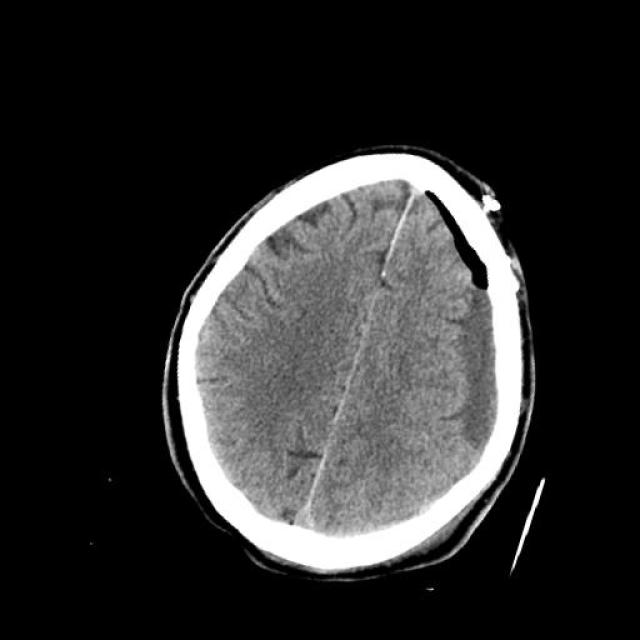Subdural: (402, 242, 560, 478)
